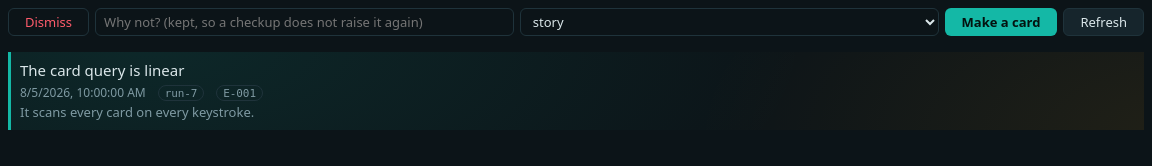
Scenario: the Suggestions pane › cards the selected suggestion at the level that is chosen
The width and height of the screenshot is (1152, 166).
Select "feature" in the dropdown named "Level" at point(729, 22), box [520,8,939,36]
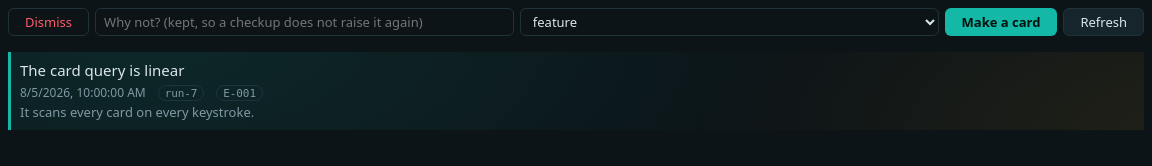
Click the button "Make a card" at point(1001, 22), box [944,8,1057,36]
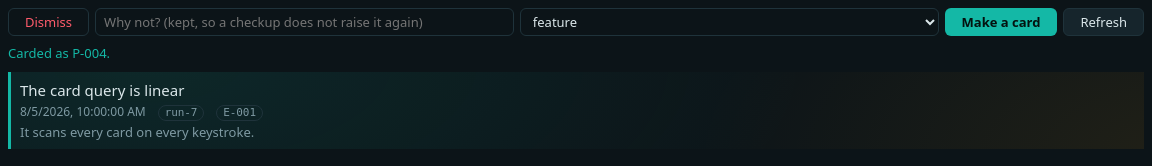
expect the text "Carded as P-004." is shown: met, box [8,44,110,62]
